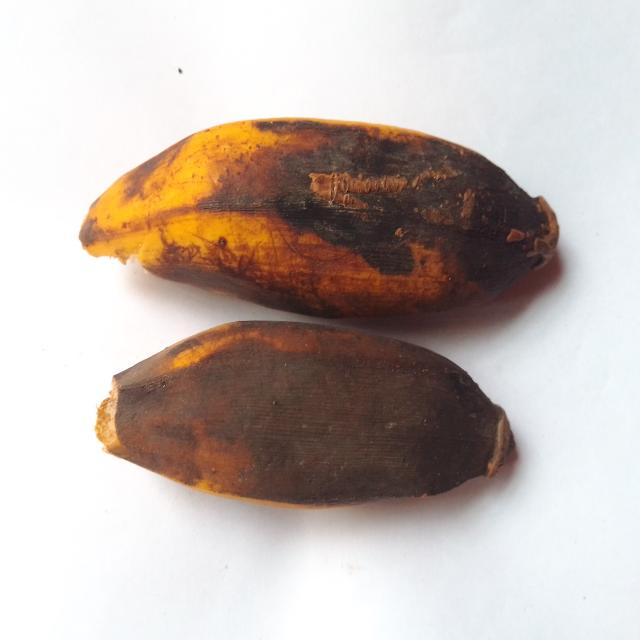banana: (80, 120, 558, 317), (96, 322, 513, 506)
